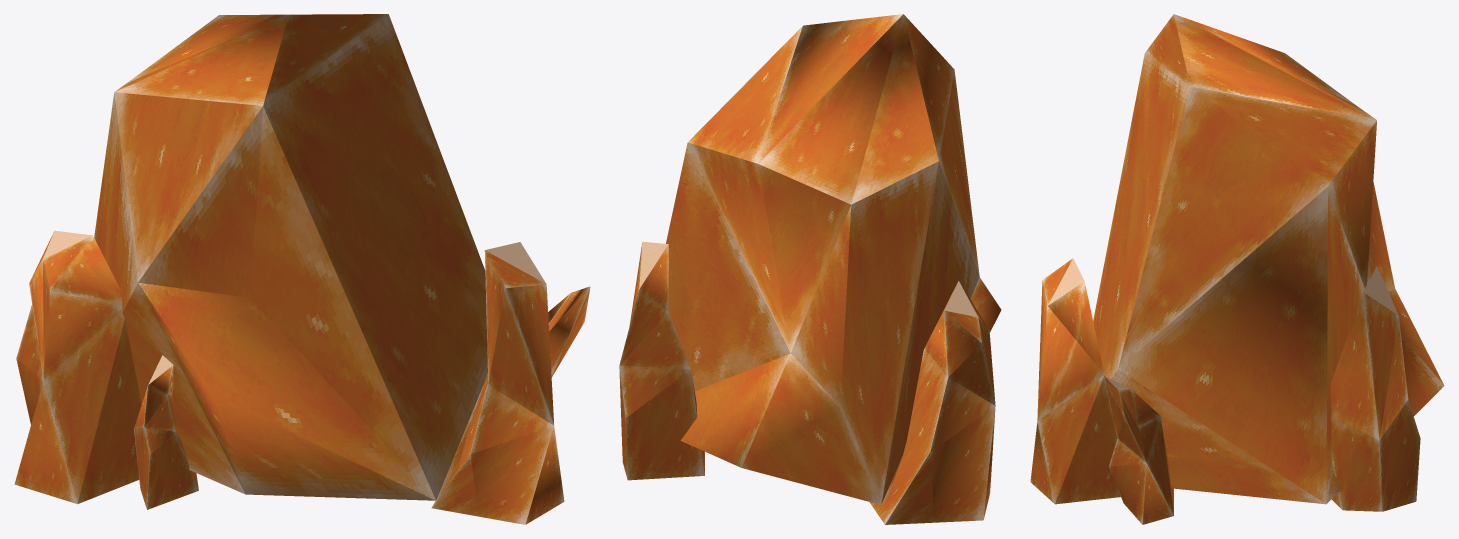
File: AmberState.obj
The picture shows the model from 3 angles, left to right: view 1: azimuth 30°, elevation 25°; view 2: azimuth 150°, elevation 25°; view 3: azimuth 270°, elevation 25°; orthographic projection. The views are drawn at different scales.
Parts seen in each view (by area): view 1: spells_amberbarrier_state.m2_Geoset_000; view 2: spells_amberbarrier_state.m2_Geoset_000; view 3: spells_amberbarrier_state.m2_Geoset_000.
Boxes of the visible parts, x1,y1,x2,y2 form: spells_amberbarrier_state.m2_Geoset_000: [14, 14, 590, 524]; spells_amberbarrier_state.m2_Geoset_000: [619, 14, 1001, 524]; spells_amberbarrier_state.m2_Geoset_000: [1030, 14, 1444, 524].
Bounding box in the file's own units: 4.08 × 4.39 × 3.87.
